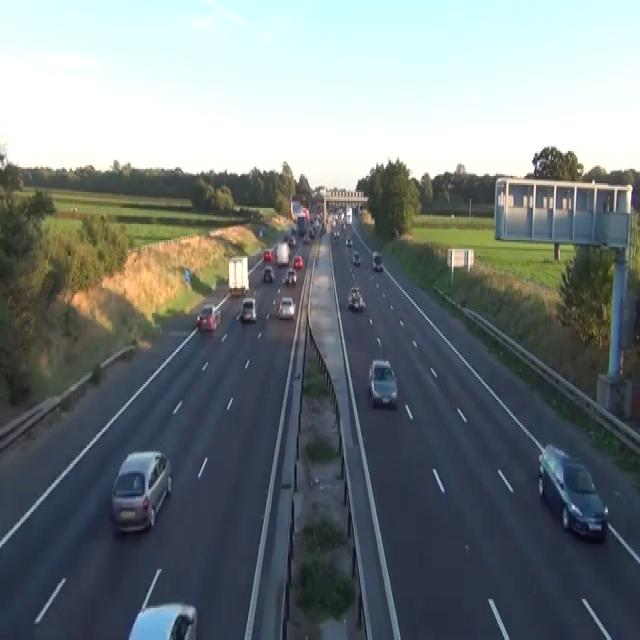Car: (537, 442, 608, 540), (110, 450, 172, 533), (127, 567, 197, 638), (368, 359, 397, 407), (196, 304, 221, 331), (239, 297, 257, 322), (348, 286, 366, 311), (277, 297, 295, 318), (282, 266, 297, 284), (229, 284, 246, 297), (372, 251, 383, 270), (263, 265, 274, 283), (293, 254, 303, 268), (299, 206, 309, 219), (352, 251, 360, 265), (263, 249, 272, 261), (288, 235, 296, 247), (308, 226, 315, 238), (302, 233, 310, 243), (345, 237, 352, 247), (283, 233, 290, 242), (341, 220, 346, 230), (333, 230, 339, 238), (291, 224, 296, 233), (258, 228, 262, 236)
Truck: (228, 256, 249, 297), (276, 242, 290, 266), (290, 199, 301, 219), (346, 206, 352, 224)
